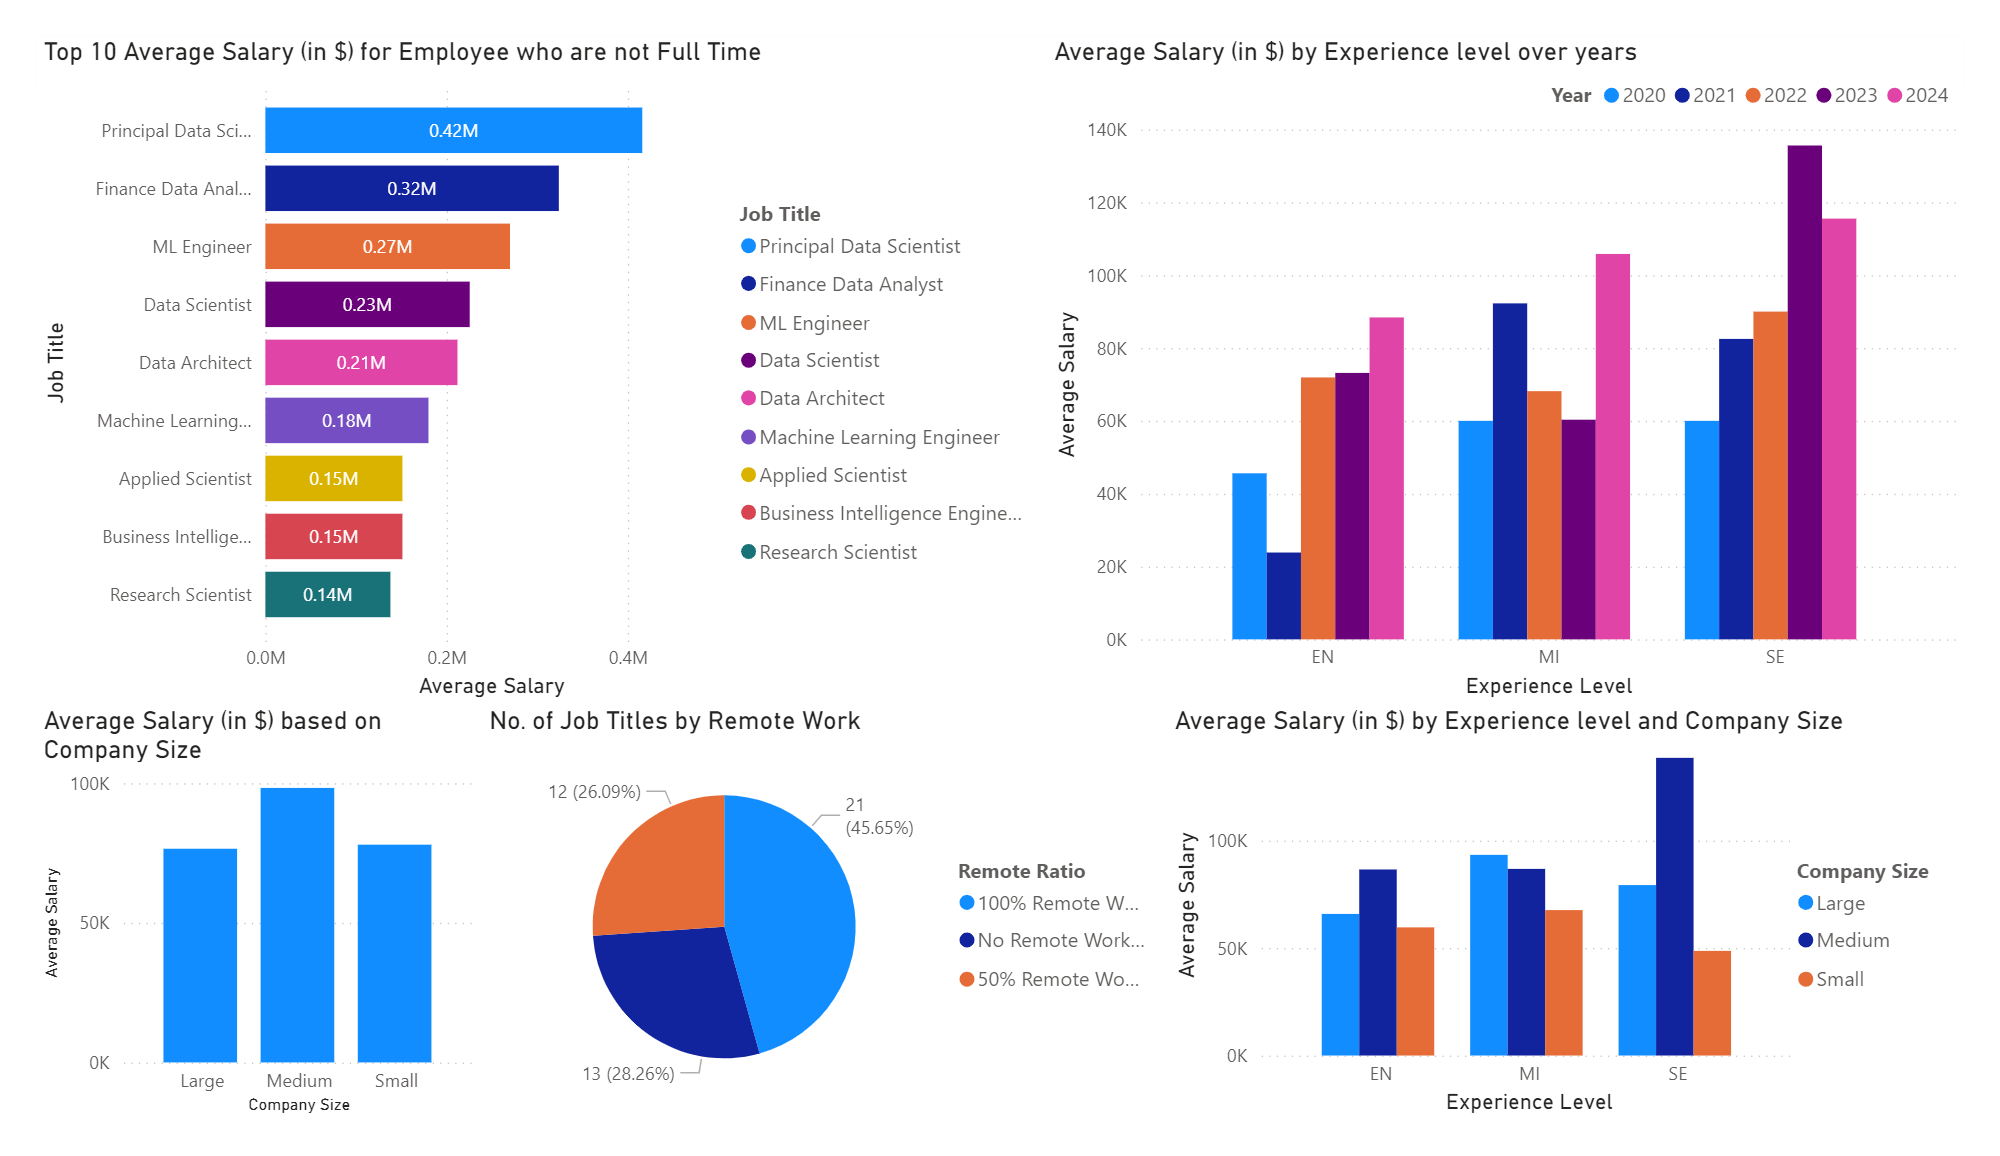

The page's visual inventory and layout, read from the dashboard file:
{"tool":"powerbi","page":{"name":"Jobs","canvas":[1280,720],"ordinal":0},"visuals":[{"type":"barChart","title":"Top 10 Average Salary (in $) for Employee who are not Full Time","fields":{"Category":["Dataset salary 2024.job_title","Dataset salary 2024.company_size","Dataset salary 2024.experience_level"],"Y":["Avg(Dataset salary 2024.salary_in_usd)"],"Series":["Dataset salary 2024.job_title"]},"box":[0,0,662.2,443.4],"z":0},{"type":"columnChart","title":"Average Salary (in $) based on Company Size","fields":{"Category":["Dataset salary 2024.company_size","Dataset salary 2024.employment_type"],"Y":["Avg(Dataset salary 2024.salary_in_usd)"]},"box":[0,443.8,295.5,275.8],"z":1000},{"type":"clusteredColumnChart","title":"Average Salary (in $) by Experience level over years","fields":{"Category":["Dataset salary 2024.experience_level (groups)","Dataset salary 2024.company_size"],"Series":["Dataset salary 2024.work_year"],"Y":["Avg(Dataset salary 2024.salary_in_usd)"]},"box":[671.1,0,608.9,443.8],"z":2000},{"type":"pieChart","title":"No. of Job Titles by Remote Work","fields":{"Category":["Dataset salary 2024.remote_ratio (groups)","Dataset salary 2024.company_size"],"Y":["Count(Dataset salary 2024.job_title)"]},"box":[304.6,443.4,436.7,275.7],"z":3000},{"type":"clusteredColumnChart","title":"Average Salary (in $) by Experience level and Company Size","fields":{"Y":["Avg(Dataset salary 2024.salary_in_usd)"],"Category":["Dataset salary 2024.experience_level (groups)","Dataset salary 2024.employment_type"],"Series":["Dataset salary 2024.company_size"]},"box":[751.2,443.8,528.8,275.8],"z":4000}]}

Visuals, with their boxes in screenshot pixels (x1, y1, x2, y2), scaled from the page's 1280x720 canvas onto the 2000x1156 screenshot:
"Top 10 Average Salary (in $) for Employee who are not Full Time" barChart: x1=0 y1=0 x2=1035 y2=712
"Average Salary (in $) based on Company Size" columnChart: x1=0 y1=713 x2=462 y2=1155
"Average Salary (in $) by Experience level over years" clusteredColumnChart: x1=1049 y1=0 x2=1999 y2=713
"No. of Job Titles by Remote Work" pieChart: x1=476 y1=712 x2=1158 y2=1155
"Average Salary (in $) by Experience level and Company Size" clusteredColumnChart: x1=1174 y1=713 x2=1999 y2=1155
